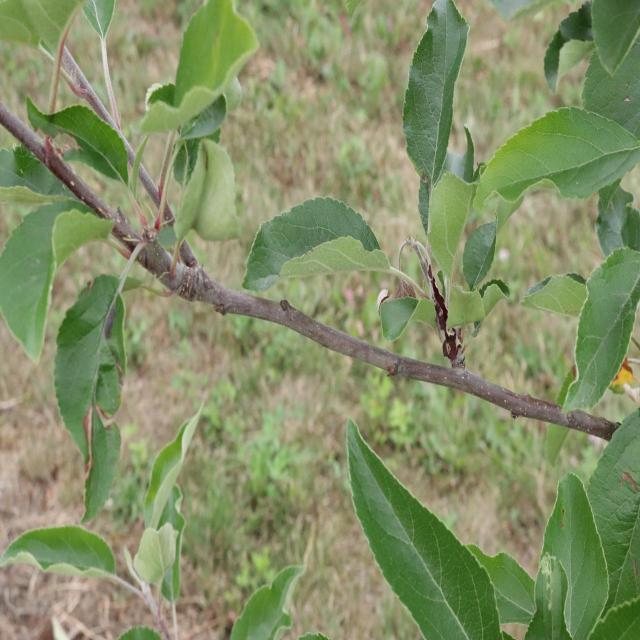-FireBlight-: (382, 228, 452, 308), (426, 295, 476, 371)
